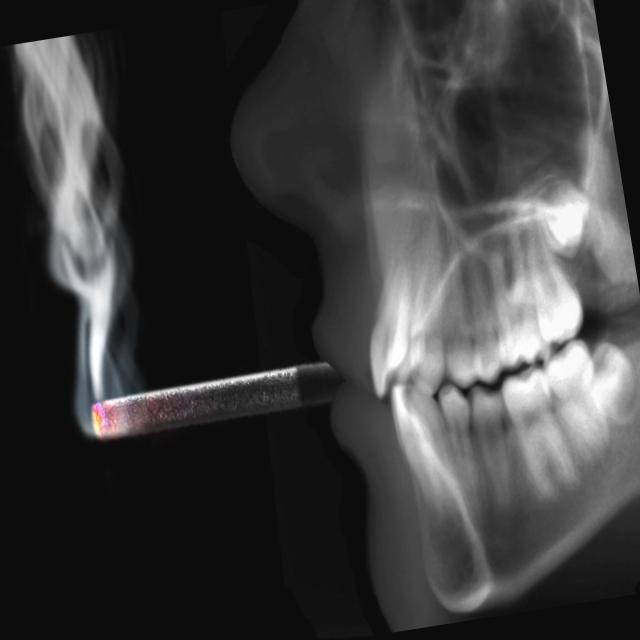smoke: (79, 331, 349, 476)
